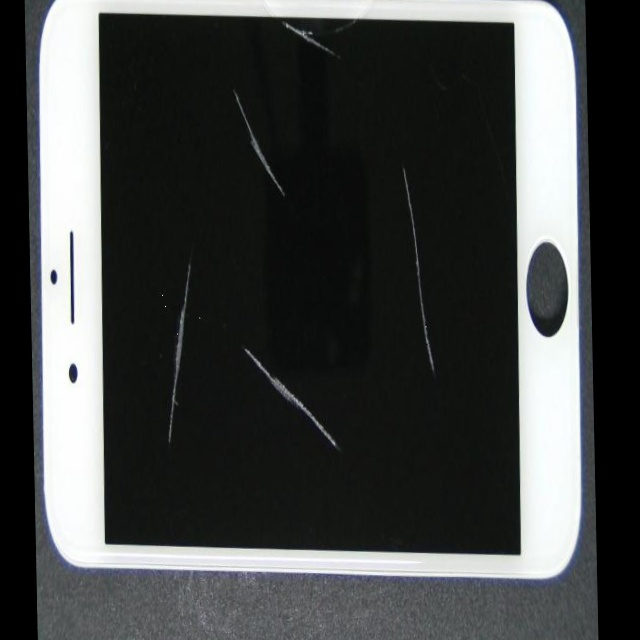scratch: (178, 0, 587, 382), (113, 0, 250, 512)
